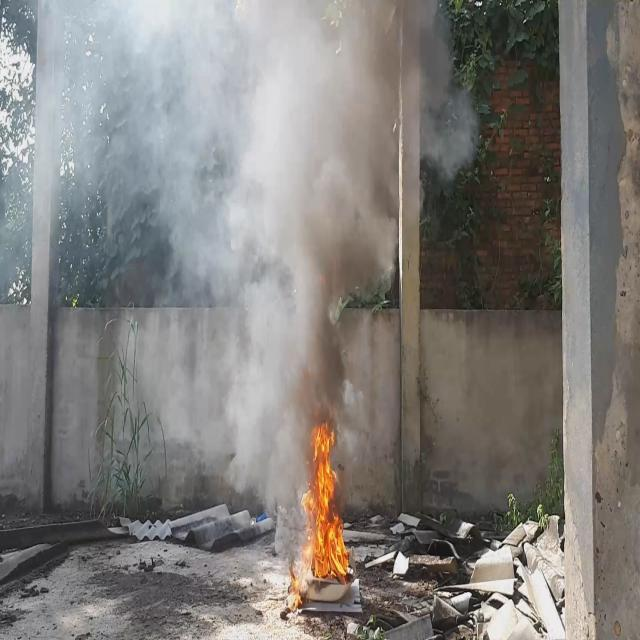Fire: (289, 422, 358, 607)
Smoke: (28, 0, 477, 521)
